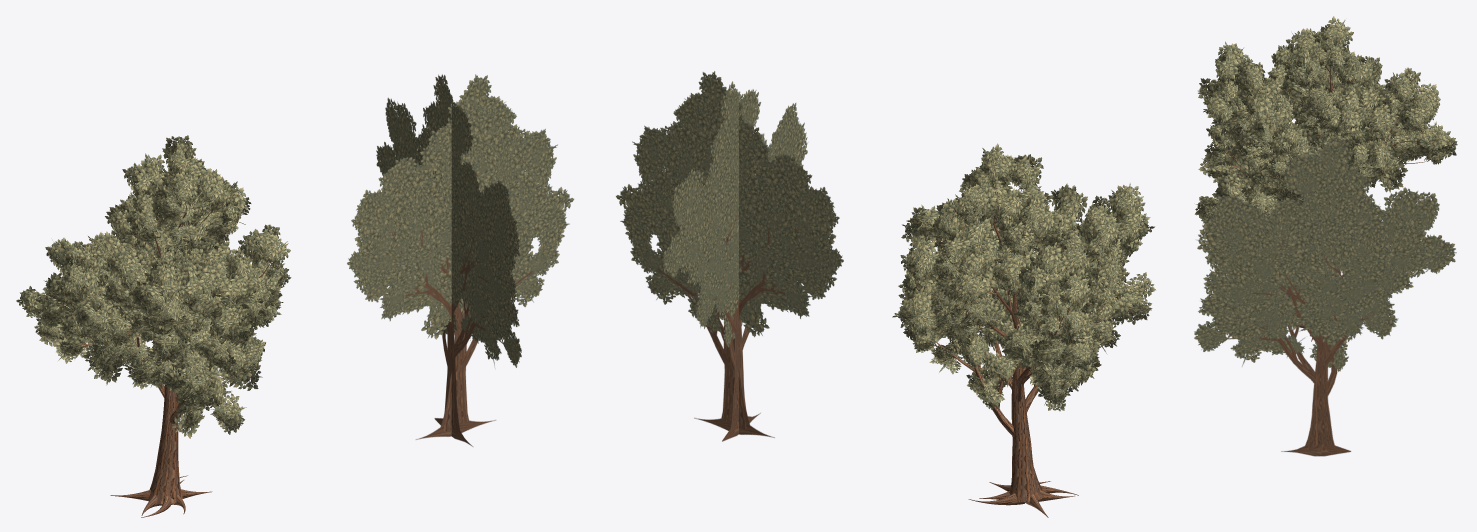
The model's file is tree5.glb.
3 views of the same model, side by side, from view 1: azimuth 30°, elevation 25°; view 2: azimuth 150°, elevation 25°; view 3: azimuth 270°, elevation 25° (orthographic). The views are drawn at different scales.
Visible parts, largest first — view 1: Leaves_LOD0.004, Empty.016, Branches_LOD0.004; view 2: Leaves_LOD0.004, Empty.016, Branches_LOD0.004; view 3: Empty.016, Leaves_LOD0.004, Branches_LOD0.004.
Part boxes in pixels (x1=…): Leaves_LOD0.004: x1=16, y1=135, x2=291, y2=438; Empty.016: x1=347, y1=74, x2=574, y2=446; Branches_LOD0.004: x1=61, y1=202, x2=271, y2=517; Leaves_LOD0.004: x1=892, y1=143, x2=1155, y2=411; Empty.016: x1=616, y1=71, x2=843, y2=441; Branches_LOD0.004: x1=917, y1=189, x2=1105, y2=517; Empty.016: x1=1194, y1=135, x2=1456, y2=456; Leaves_LOD0.004: x1=1195, y1=16, x2=1457, y2=223; Branches_LOD0.004: x1=1222, y1=54, x2=1429, y2=341.
Bounding box in the file's own units: 67.82 × 45.71 × 34.27.
3 materials, 3 textured.
